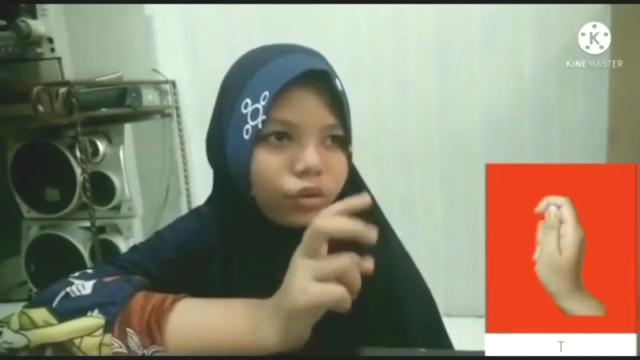T: (528, 192, 608, 322)
